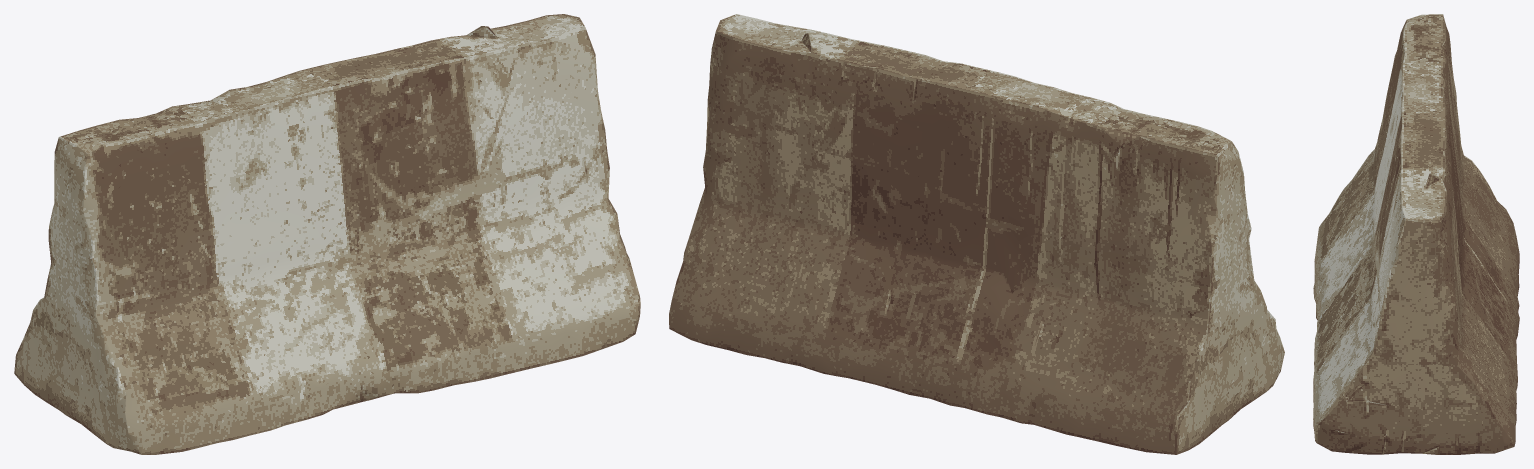
File: concrete_road_barrier.glb
The picture shows the model from 3 angles, left to right: view 1: azimuth 30°, elevation 25°; view 2: azimuth 150°, elevation 25°; view 3: azimuth 270°, elevation 25°; orthographic projection. The views are drawn at different scales.
Parts seen in each view (by area): view 1: mesh; view 2: mesh; view 3: mesh.
Part boxes in pixels (box(x1,y1,x2,y2)): mesh: box(14, 14, 640, 454); mesh: box(669, 14, 1284, 454); mesh: box(1313, 14, 1519, 454).
Size of the model in its own units: 44.55 by 24 by 18.29.
1 material, 1 textured.
